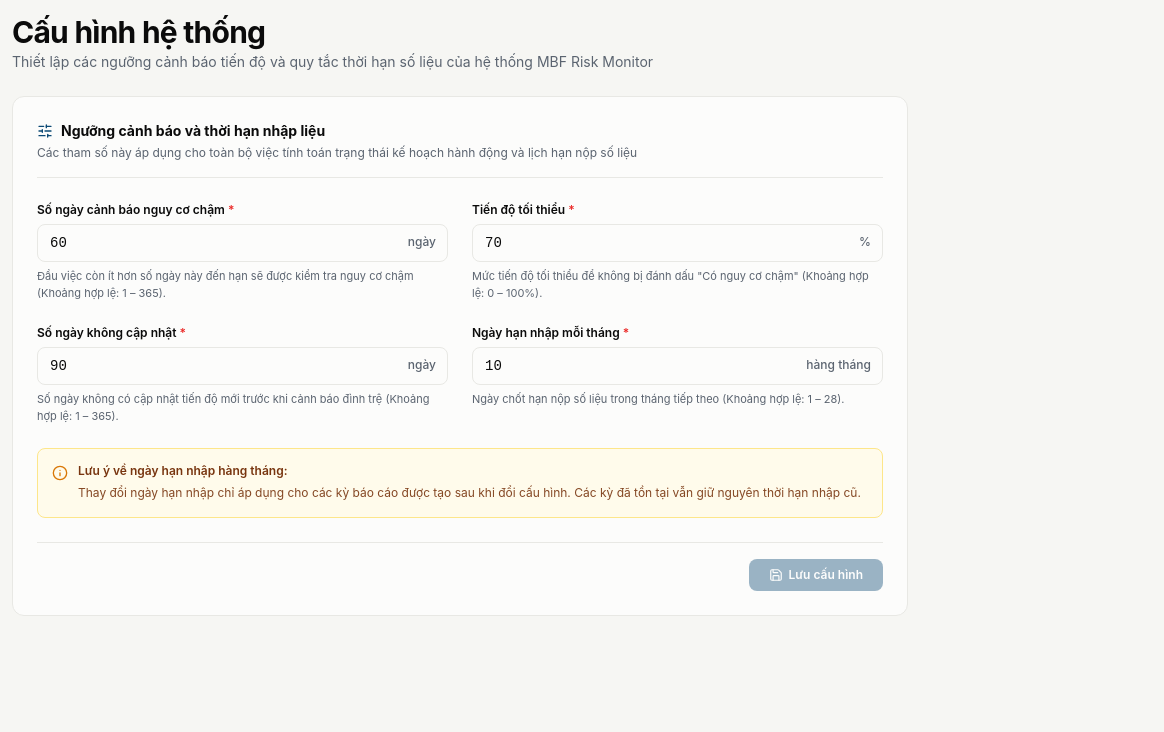
Test: SettingsView component › displays field errors when inputs are outside valid ranges and prevents submit
This screenshot has width=1164, height=732.
# Set invalid values
Replace the text in the number field labelled "Số ngày cảnh báo nguy cơ chậm *" with "0" at {"x": 242, "y": 243}, box [37, 224, 448, 262]
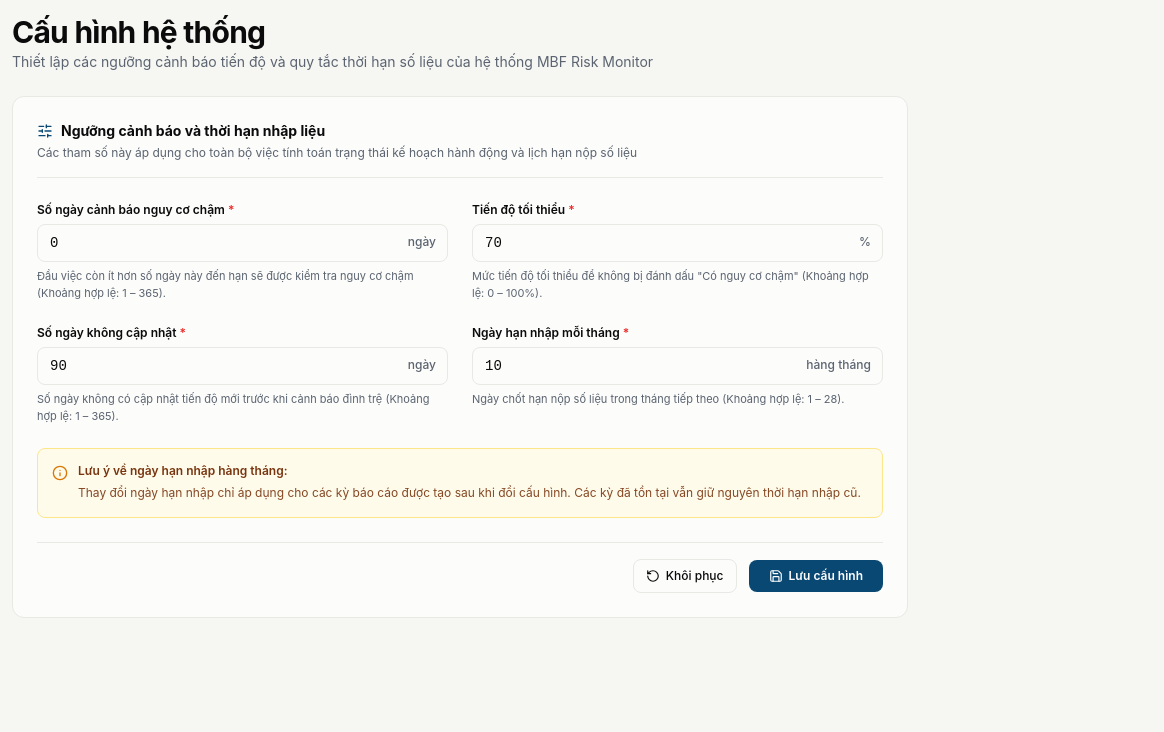
Replace the text in the number field labelled "Tiến độ tối thiểu *" with "150" at {"x": 678, "y": 243}, box [472, 224, 883, 262]
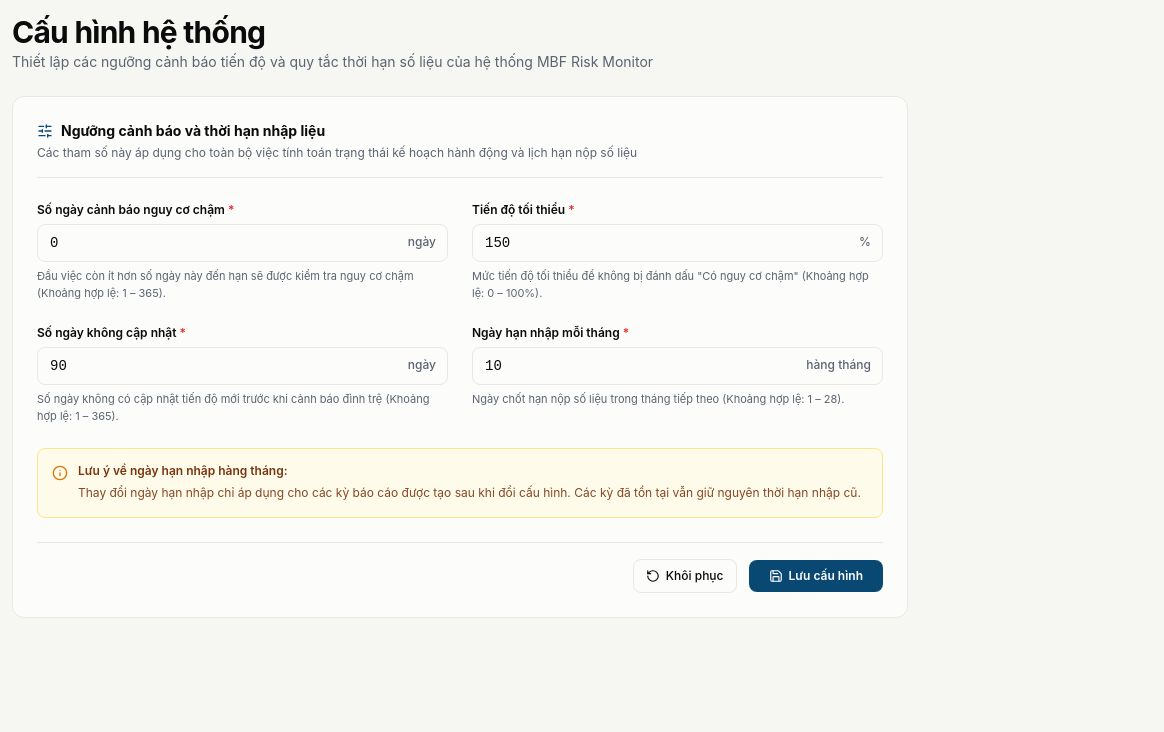
Replace the text in the number field labelled "Số ngày không cập nhật *" with "400" at {"x": 242, "y": 366}, box [37, 347, 448, 385]
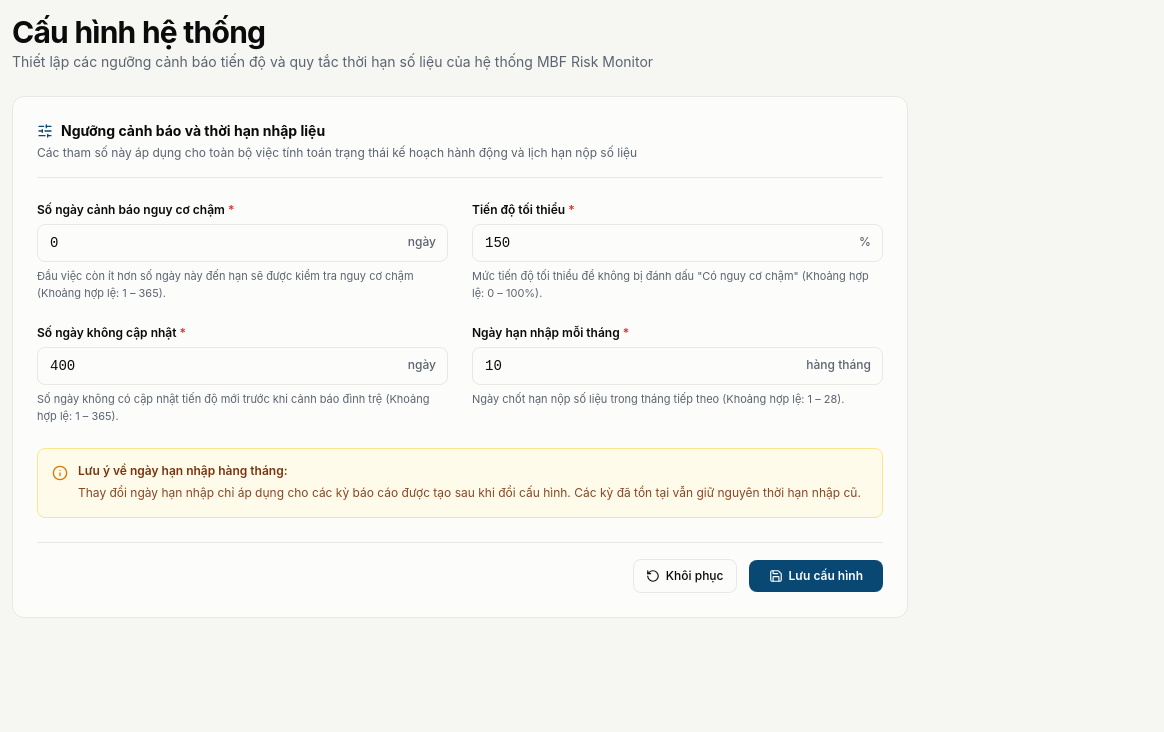
Replace the text in the number field labelled "Ngày hạn nhập mỗi tháng *" with "31" at {"x": 678, "y": 366}, box [472, 347, 883, 385]
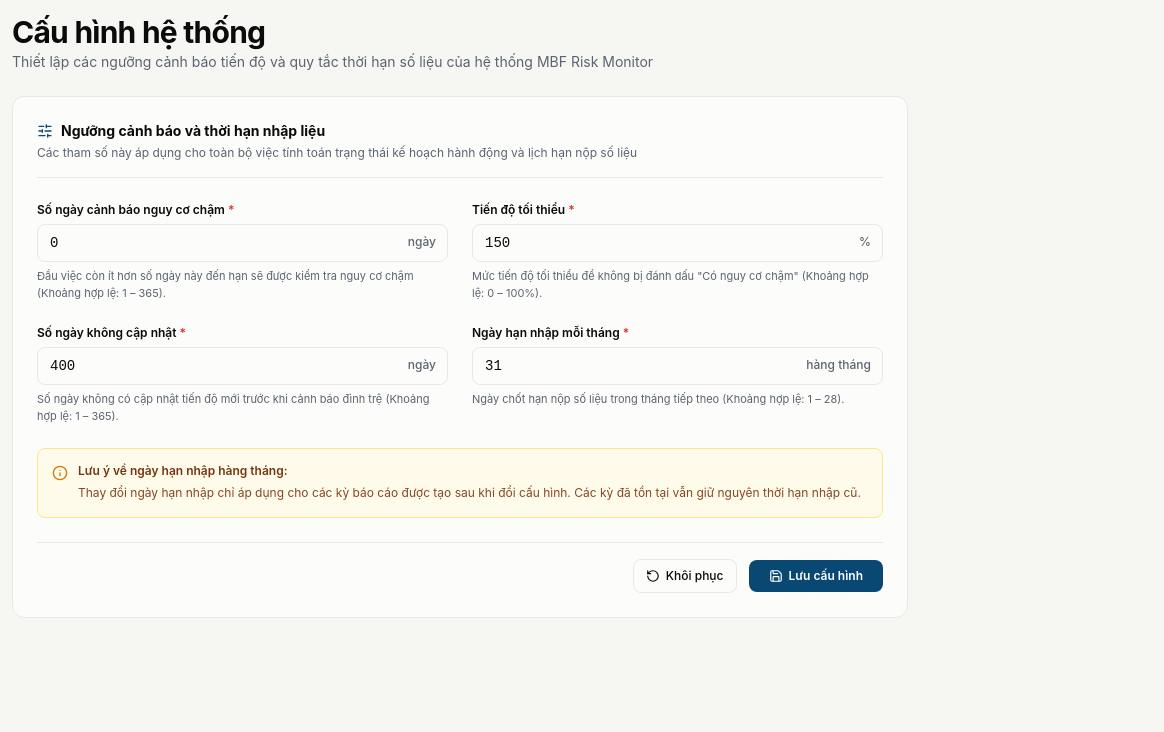
Click the button "Lưu cấu hình" at {"x": 816, "y": 576}, box [748, 560, 883, 592]
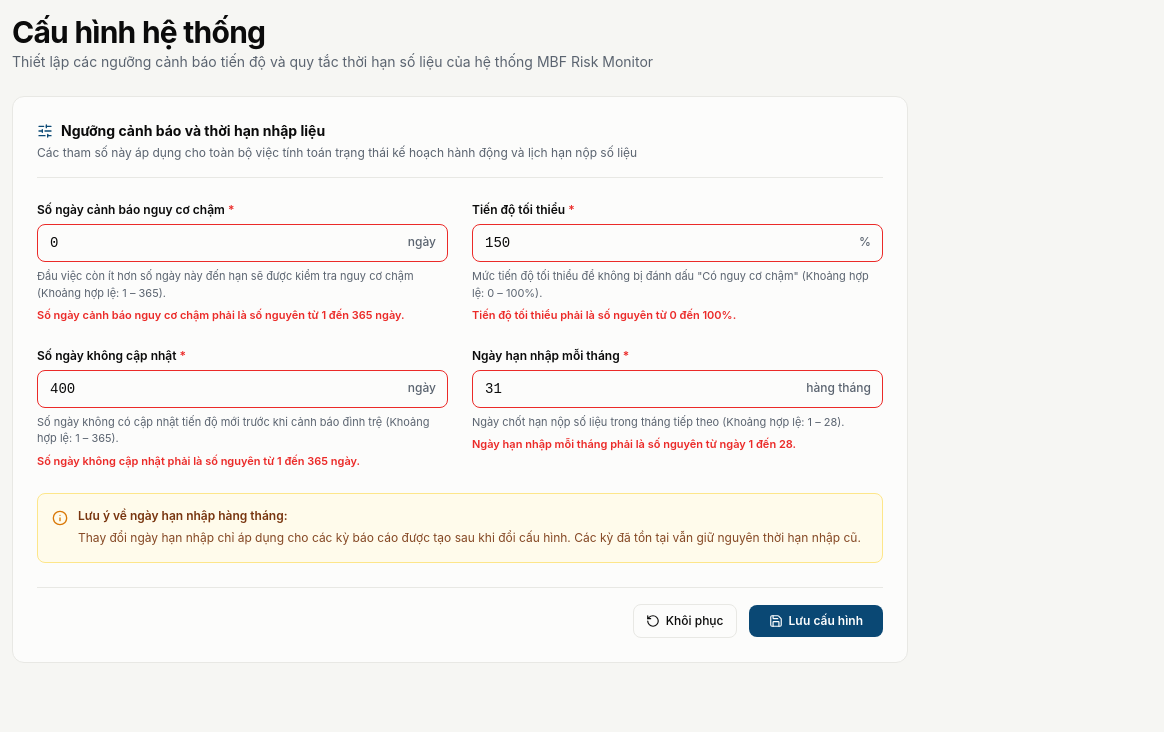
Result: the text "Số ngày cảnh báo nguy cơ chậm phải là số nguyên từ 1 đến 365 ngày." is shown at [37, 307, 448, 324]
Result: the text "Tiến độ tối thiểu phải là số nguyên từ 0 đến 100%." is shown at [472, 308, 736, 322]
Result: the text "Số ngày không cập nhật phải là số nguyên từ 1 đến 365 ngày." is shown at [37, 454, 360, 468]
